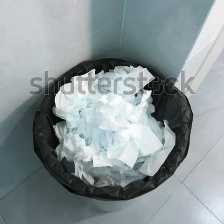tissue: (45, 59, 181, 191)
